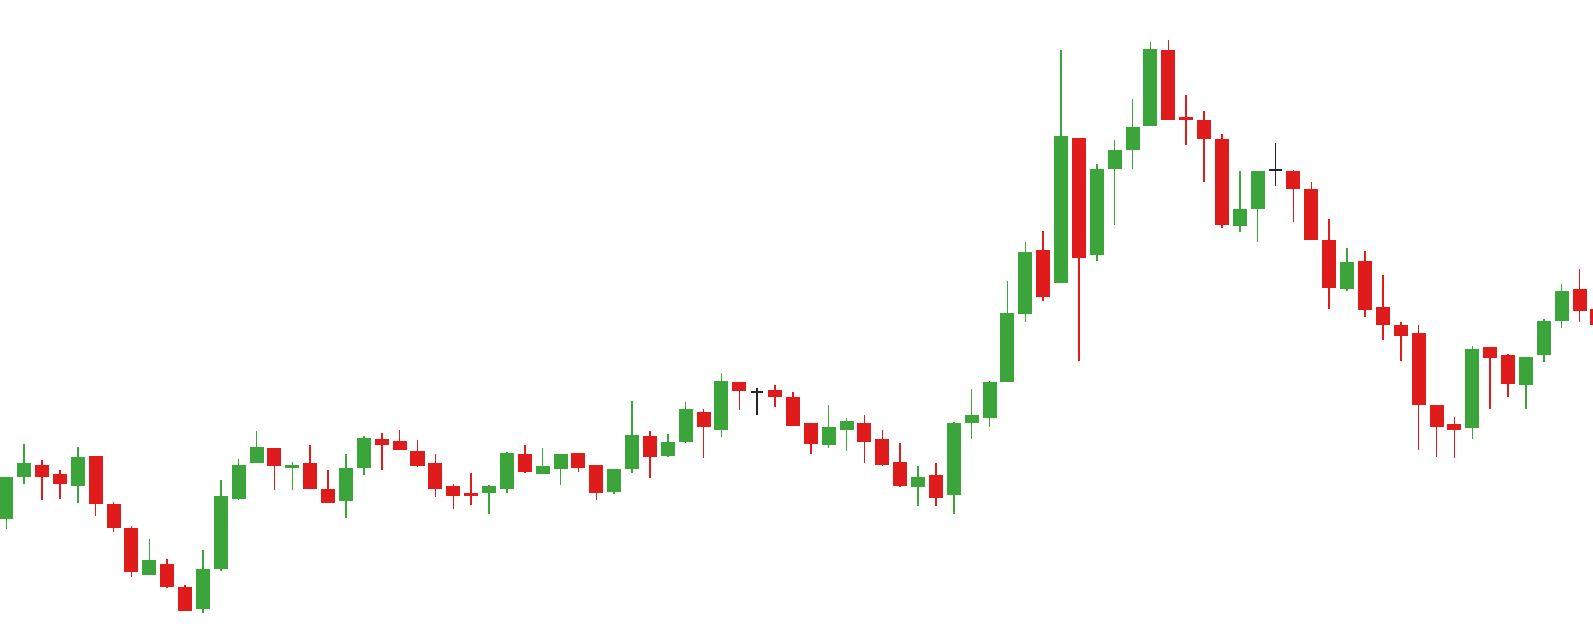sell: (1052, 41, 1180, 189)
